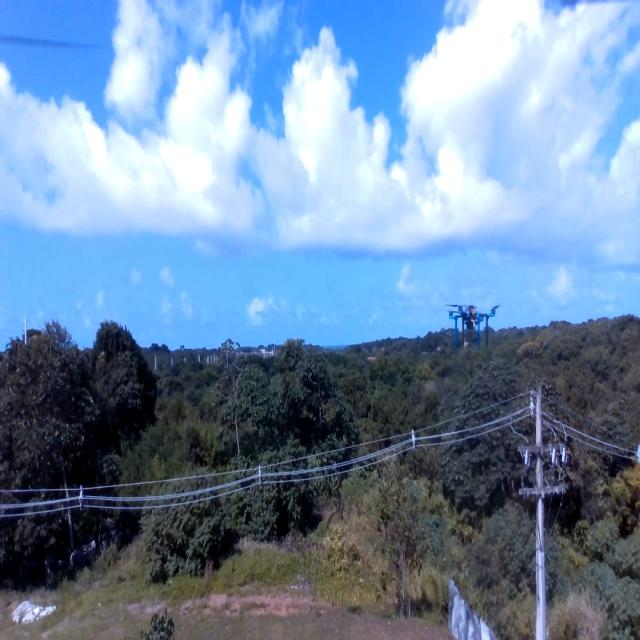-uav-: (442, 289, 502, 358)
